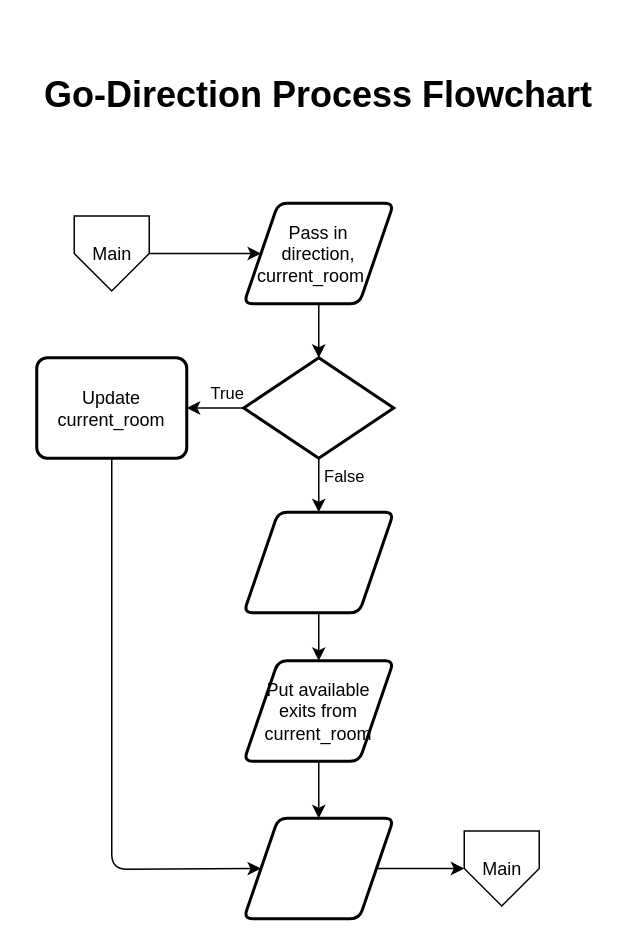
Some shapes in this 636 by 947 pixel diagram are drawn without their labels. The shapes that lost their labels are listed below. From the top down, each one's box as (x1, y1, x2, y2) in pixels, then its label:
(242, 356, 394, 459): Direction in current_room?
(242, 510, 394, 614): Put can't go that way message
(242, 816, 394, 920): Return current_room
